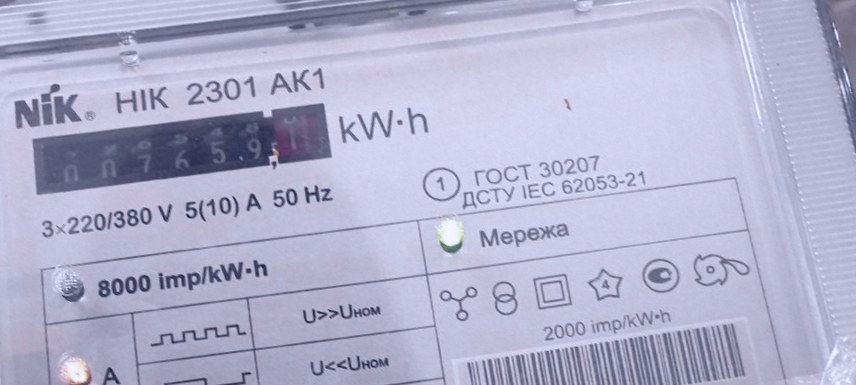0: (60, 160, 82, 188), (98, 156, 120, 183)
1: (284, 122, 302, 156)
5: (205, 138, 231, 167)
6: (170, 146, 193, 173)
7: (134, 151, 157, 179)
9: (243, 135, 265, 164)
screen: (18, 84, 346, 218)
